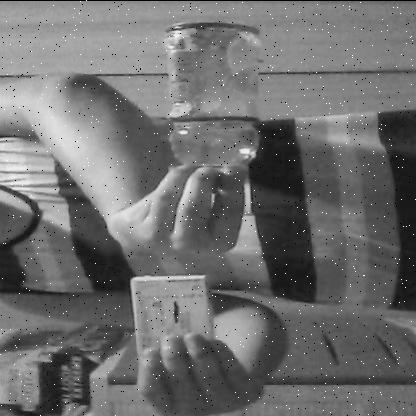Plastic Bottle: (148, 15, 279, 201)
